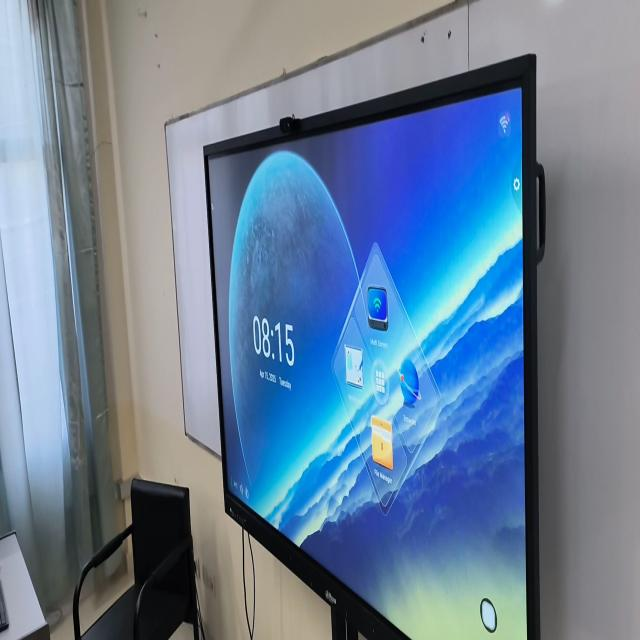Chair: (73, 478, 199, 639)
Digital board: (203, 55, 545, 639)
Keyboard: (0, 581, 9, 632)
